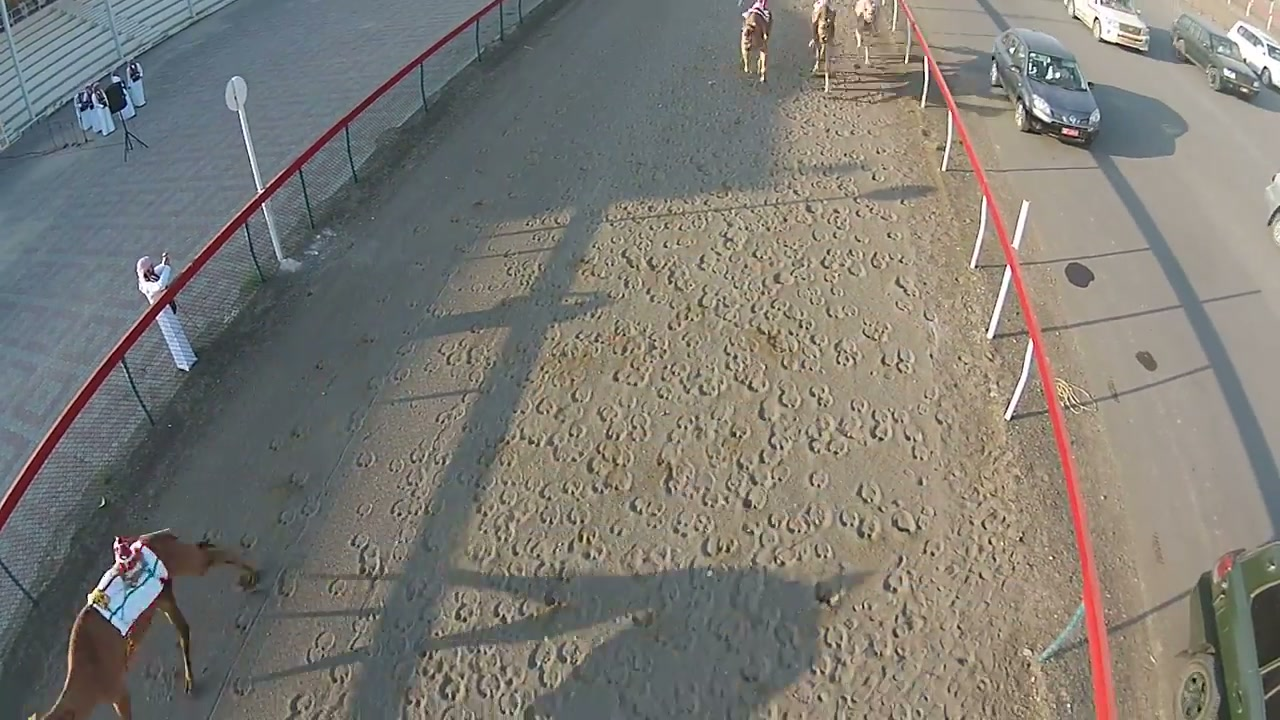animal_foot_print: (226, 53, 1077, 719)
